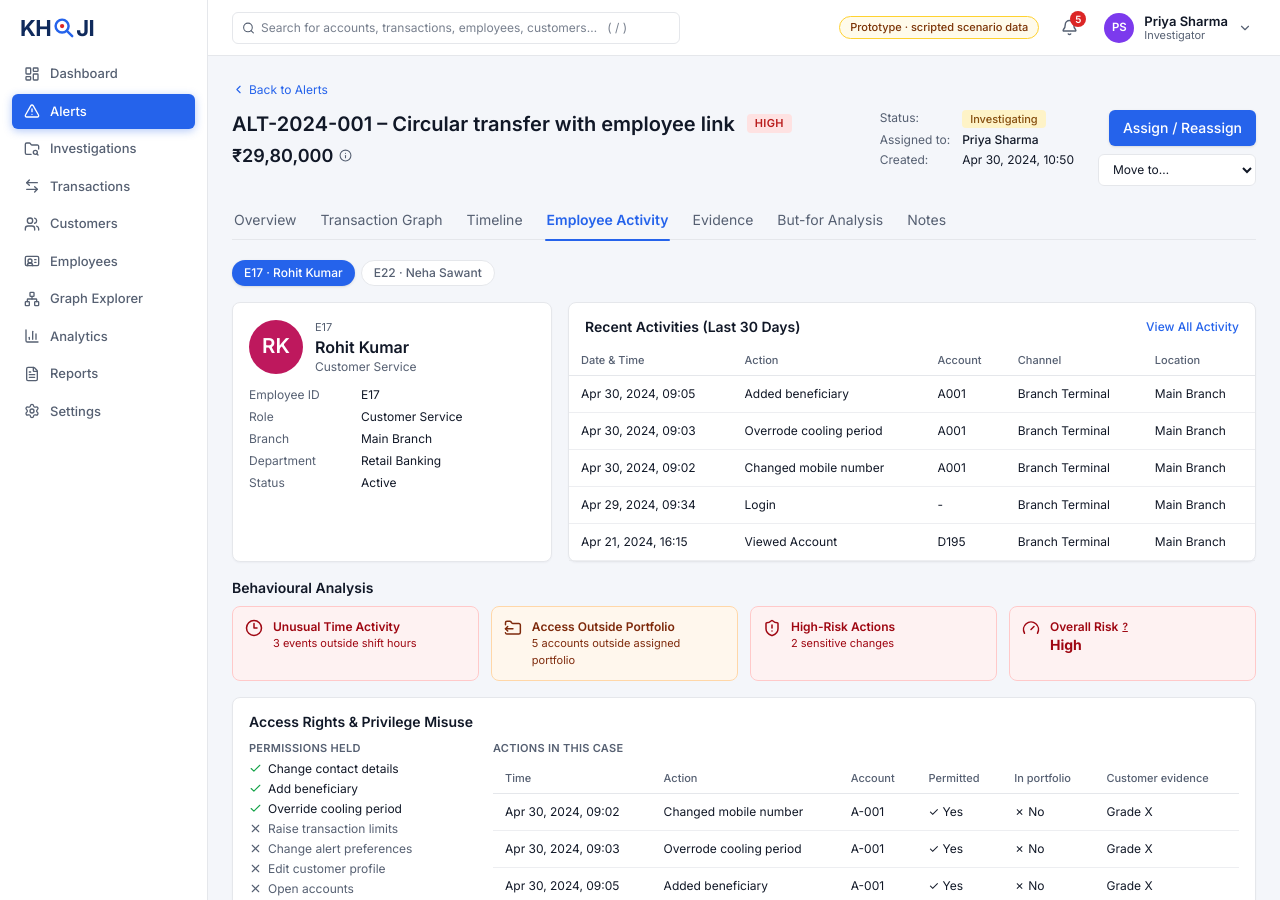
Test case: Employee Activity tab › switches to E22 and shows the onboarding actions
Click the tab "E22 · Neha Sawant": (428, 272) 361,260 -> 495,286
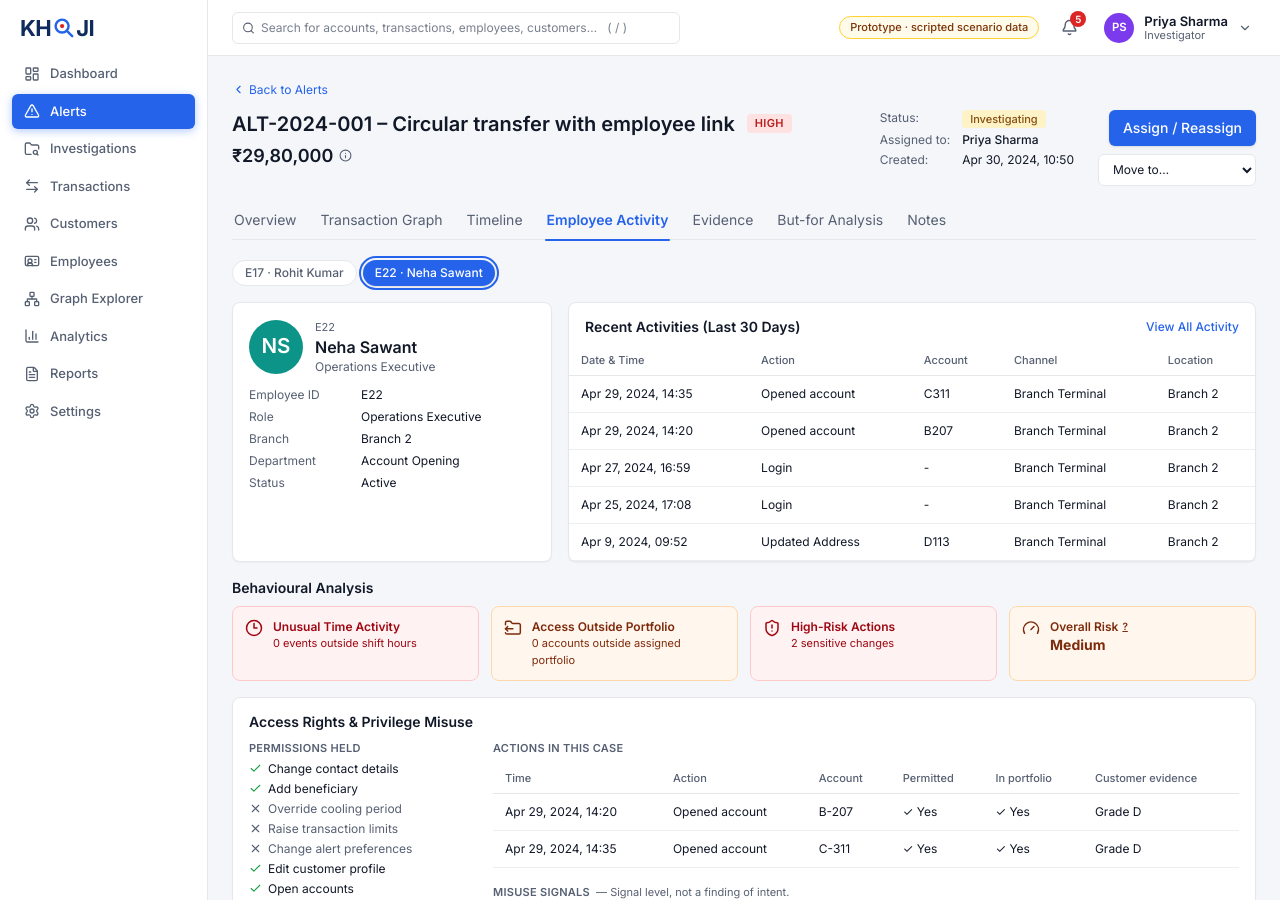
Result: the text "Opened account" is shown 2 times at 661,794 -> 807,831; 661,831 -> 807,868
